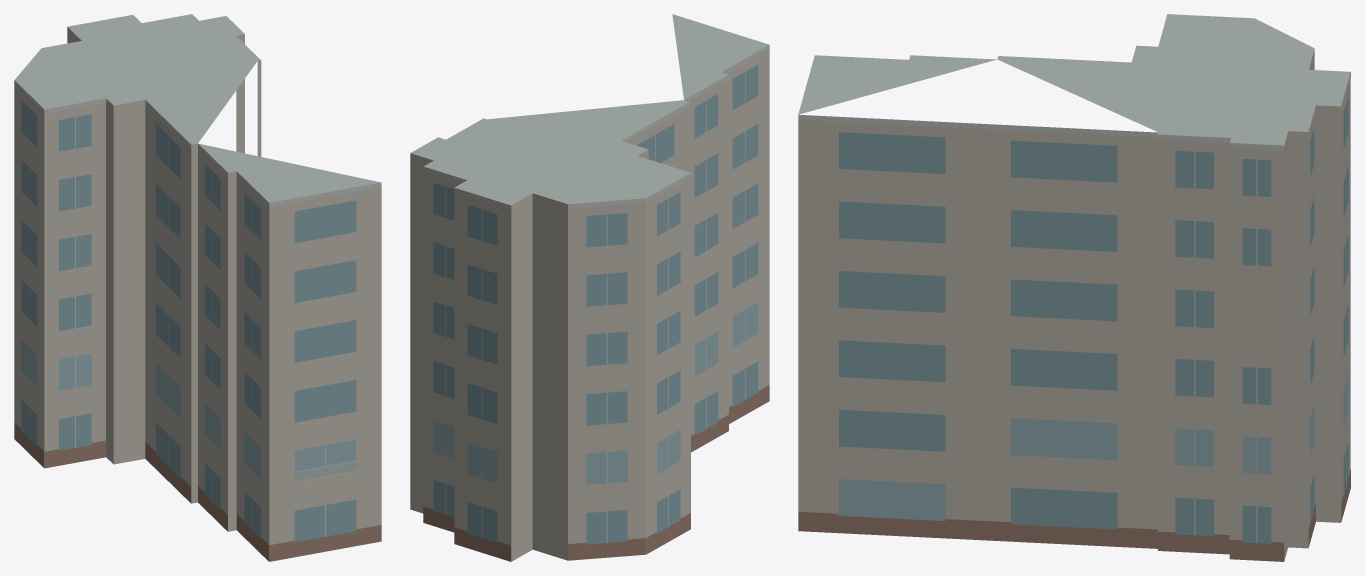
Rendered from survey-upis-32733367.glb.
The picture shows the model from 3 angles, left to right: view 1: azimuth 30°, elevation 25°; view 2: azimuth 150°, elevation 25°; view 3: azimuth 270°, elevation 25°; orthographic projection. The views are drawn at different scales.
Parts seen in each view (by area): view 1: survey-upis-32733367.tmp; view 2: survey-upis-32733367.tmp; view 3: survey-upis-32733367.tmp.
Boxes of the visible parts, x1,y1,x2,y2 form: survey-upis-32733367.tmp: (14,14,381,561); survey-upis-32733367.tmp: (410,14,769,561); survey-upis-32733367.tmp: (798,14,1350,561).
Bounding box in the file's own units: 13.29 × 19.6 × 23.59.
